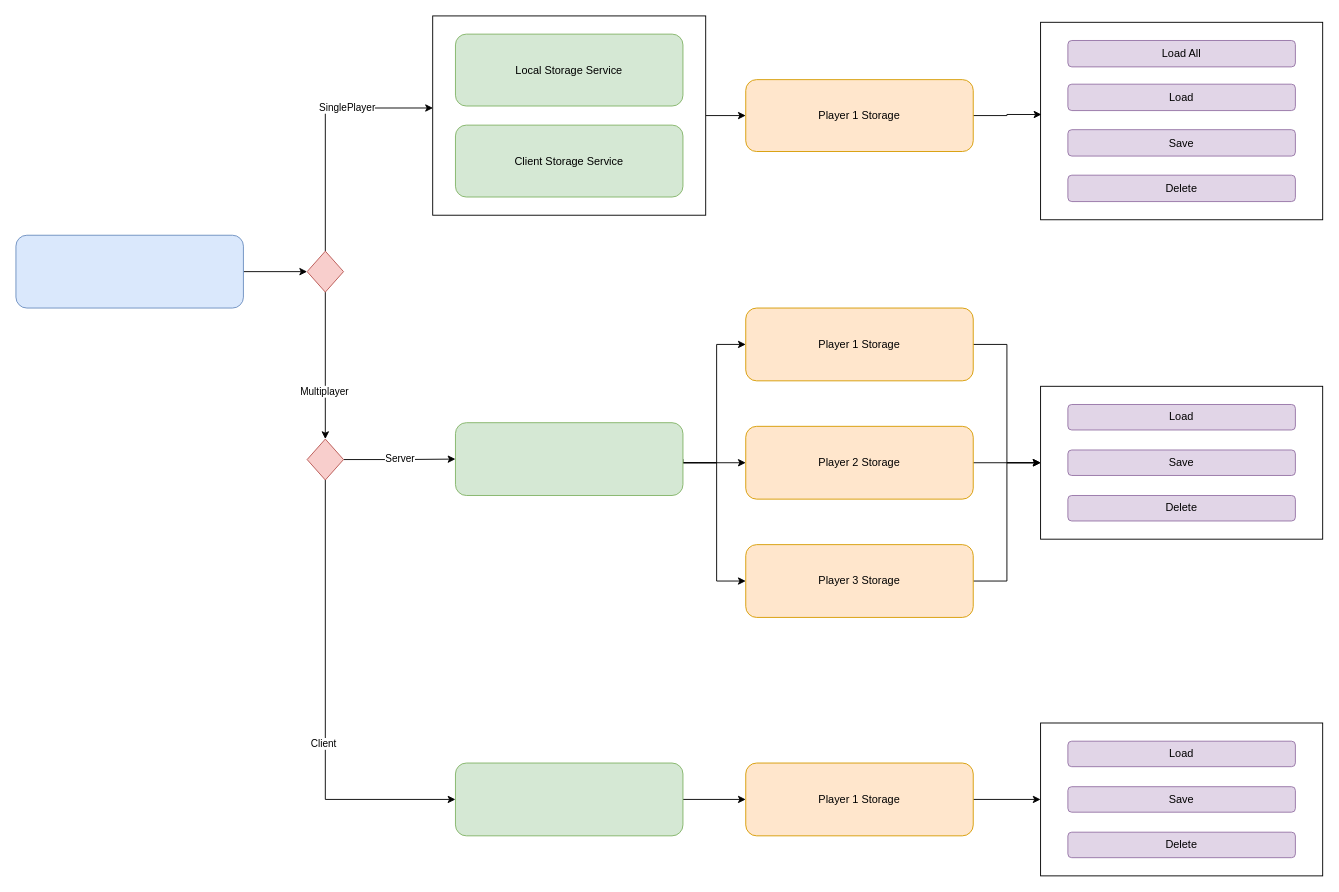
Some shapes in this 1339 by 892 pixel diagram are drawn without their labels. The shapes that lost their labels are listed below. From the top down, each one's centre as x and y in pixels, then its label:
At point (129, 271): "Storage Manager".
At point (569, 458): "Server Storage Service".
At point (569, 799): "Client Storage Service (ReadyOnly)".
